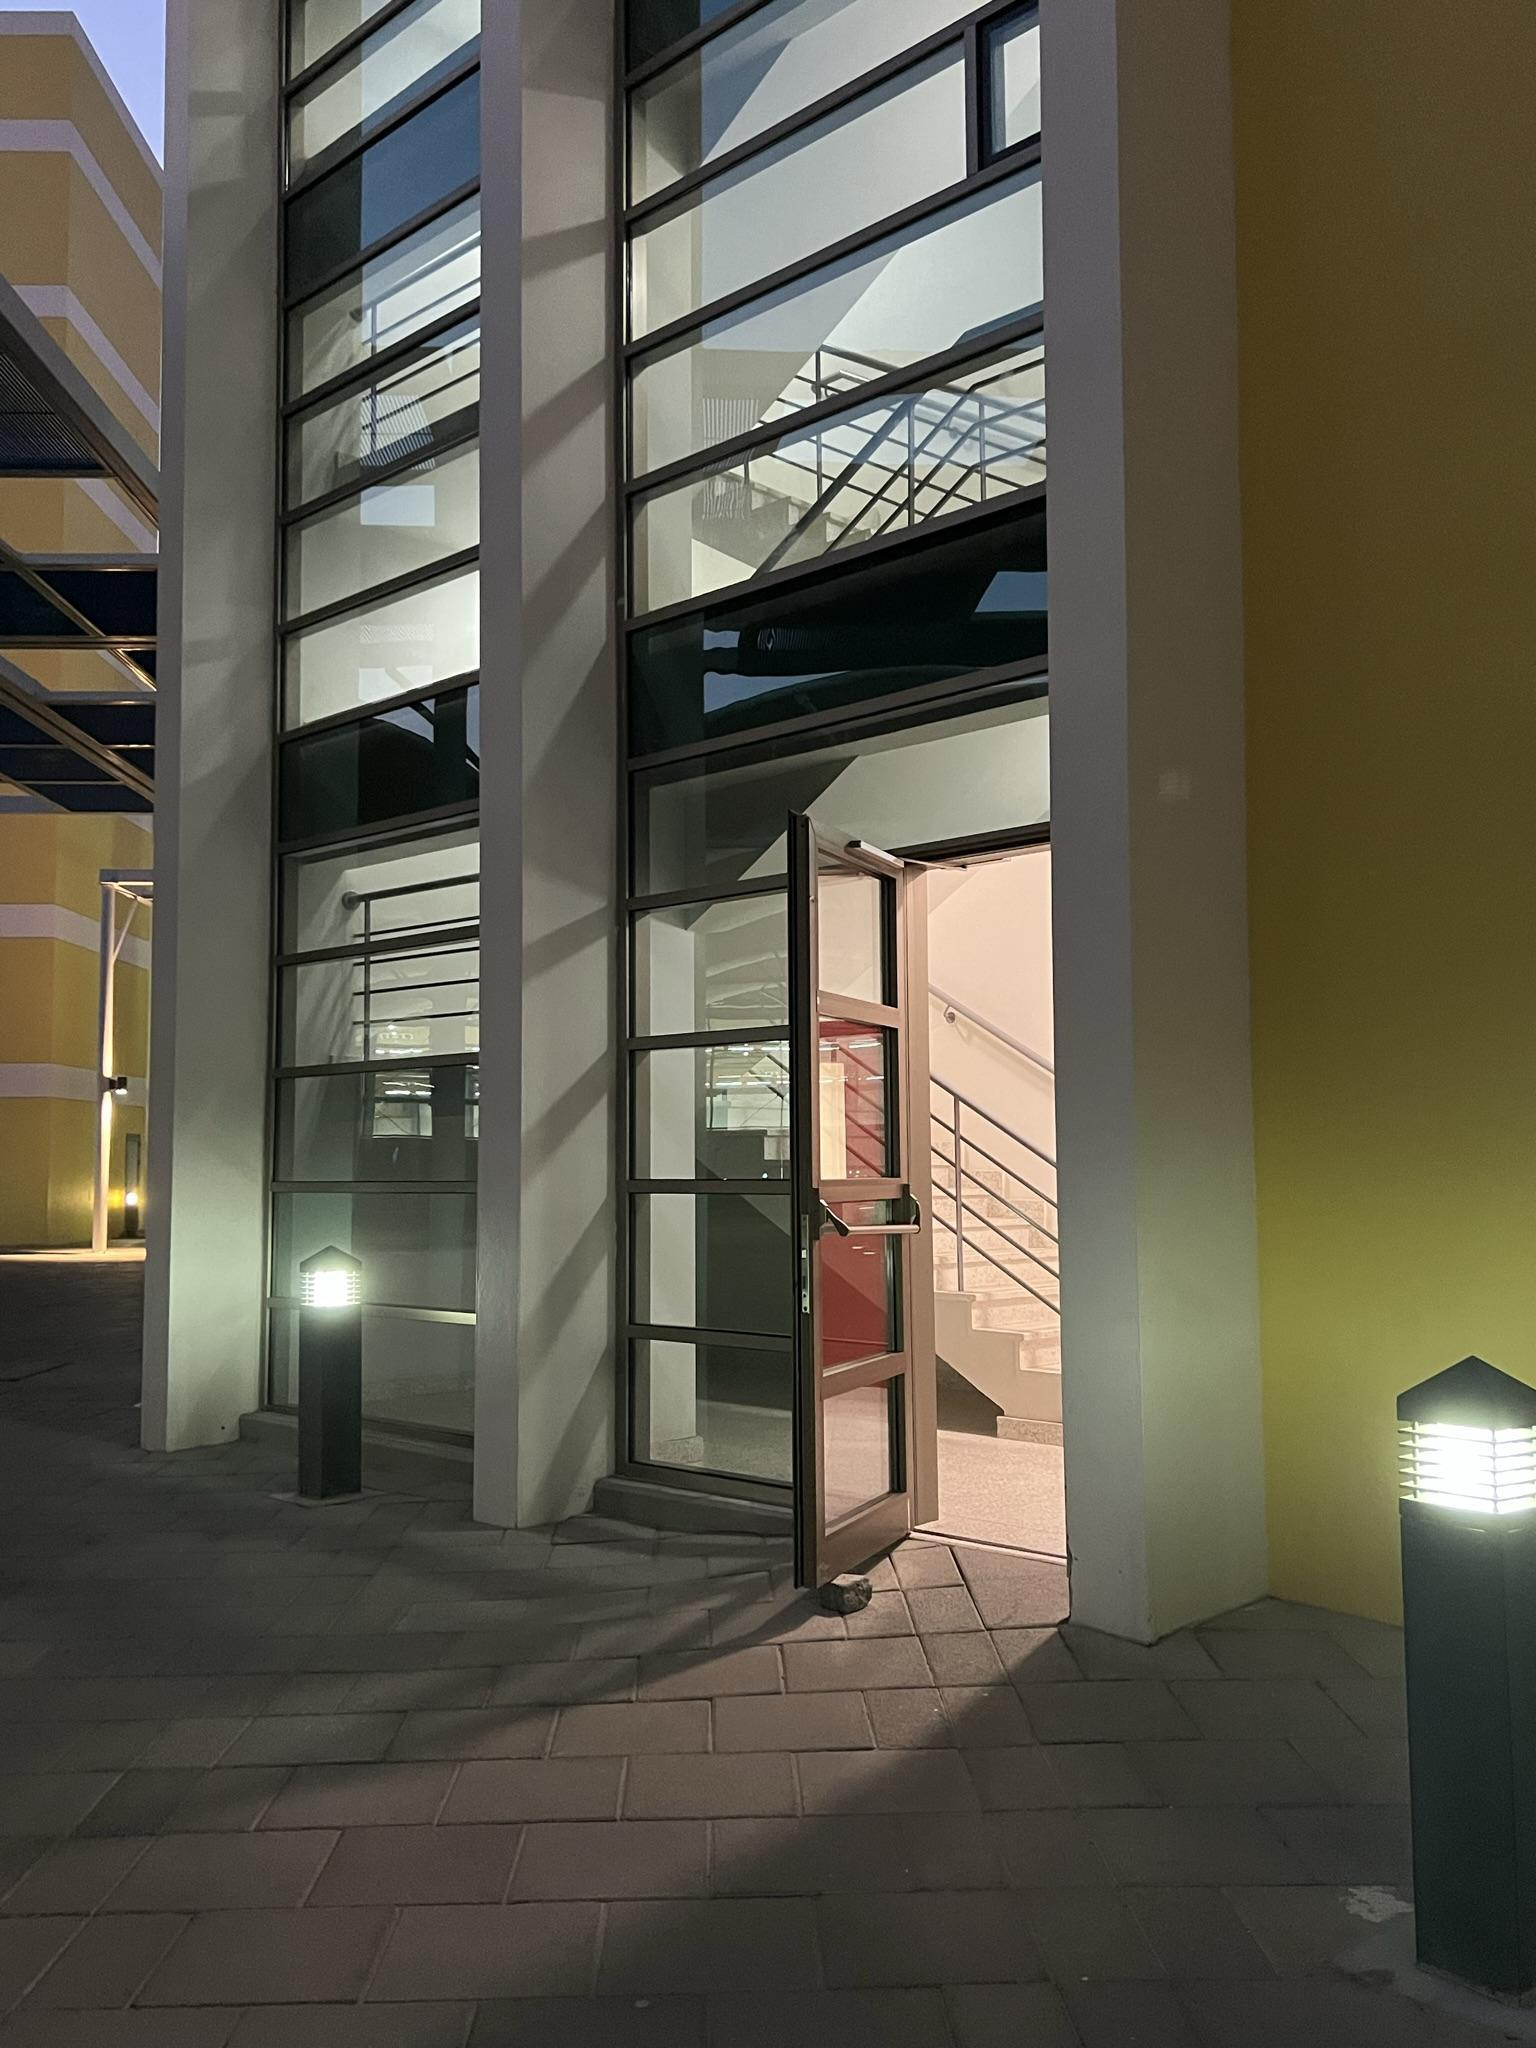door: (792, 806, 937, 1558)
handle: (810, 1185, 925, 1243)
